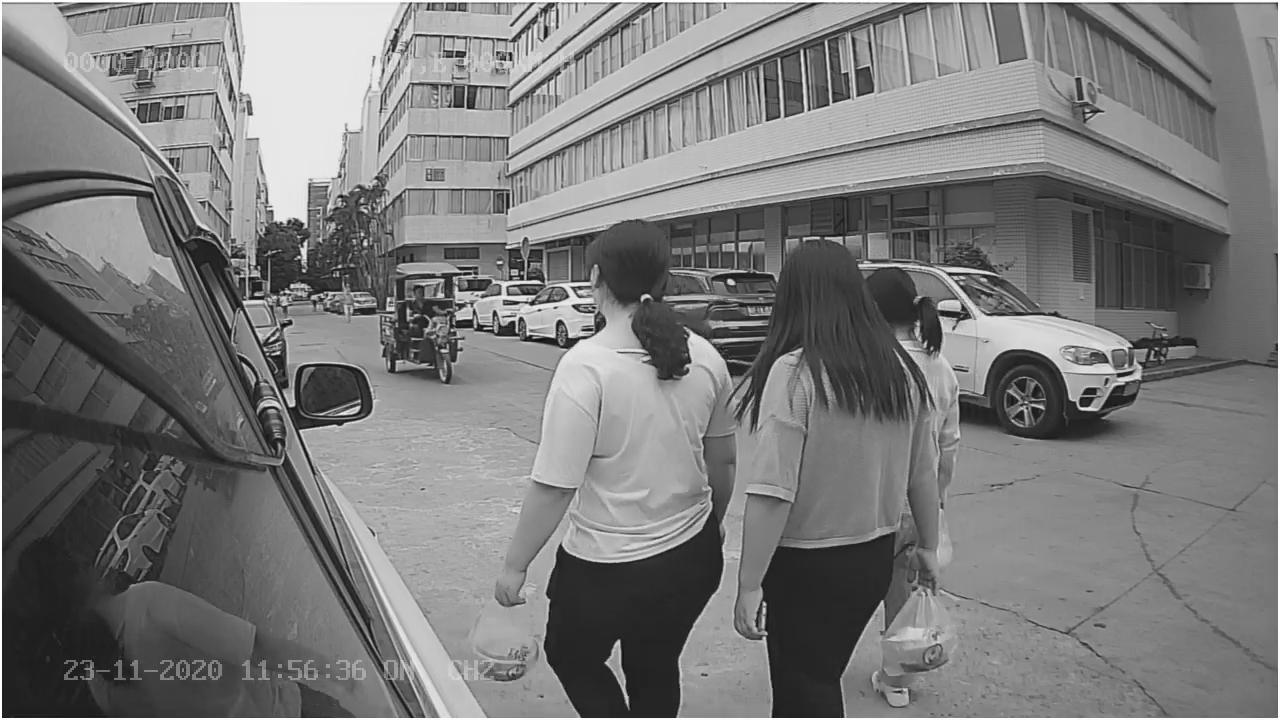person: (488, 213, 735, 720), (728, 242, 944, 713)
